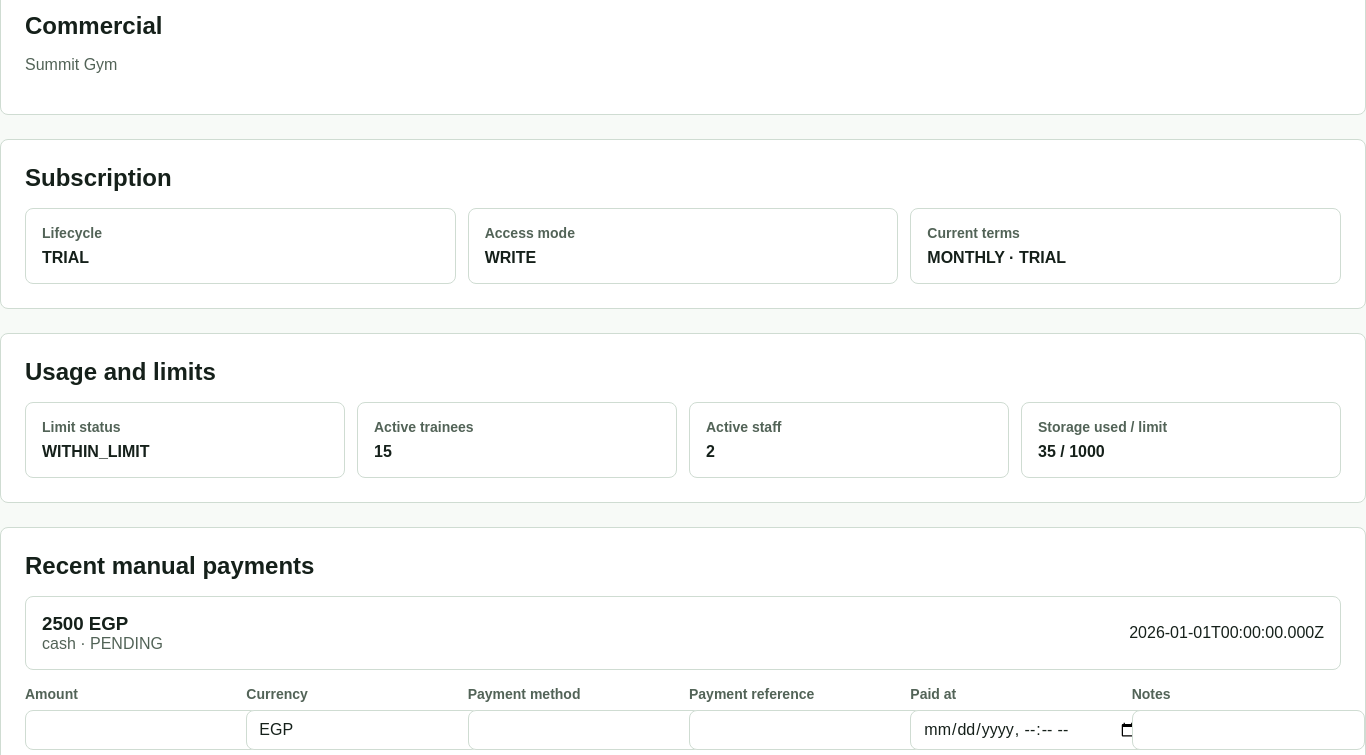
it: commercial experience UI › Backend 403 is access denied UX and does not logout
Type "3000" into the number field labelled "Amount" at point(142, 730), box [25,710,258,750]
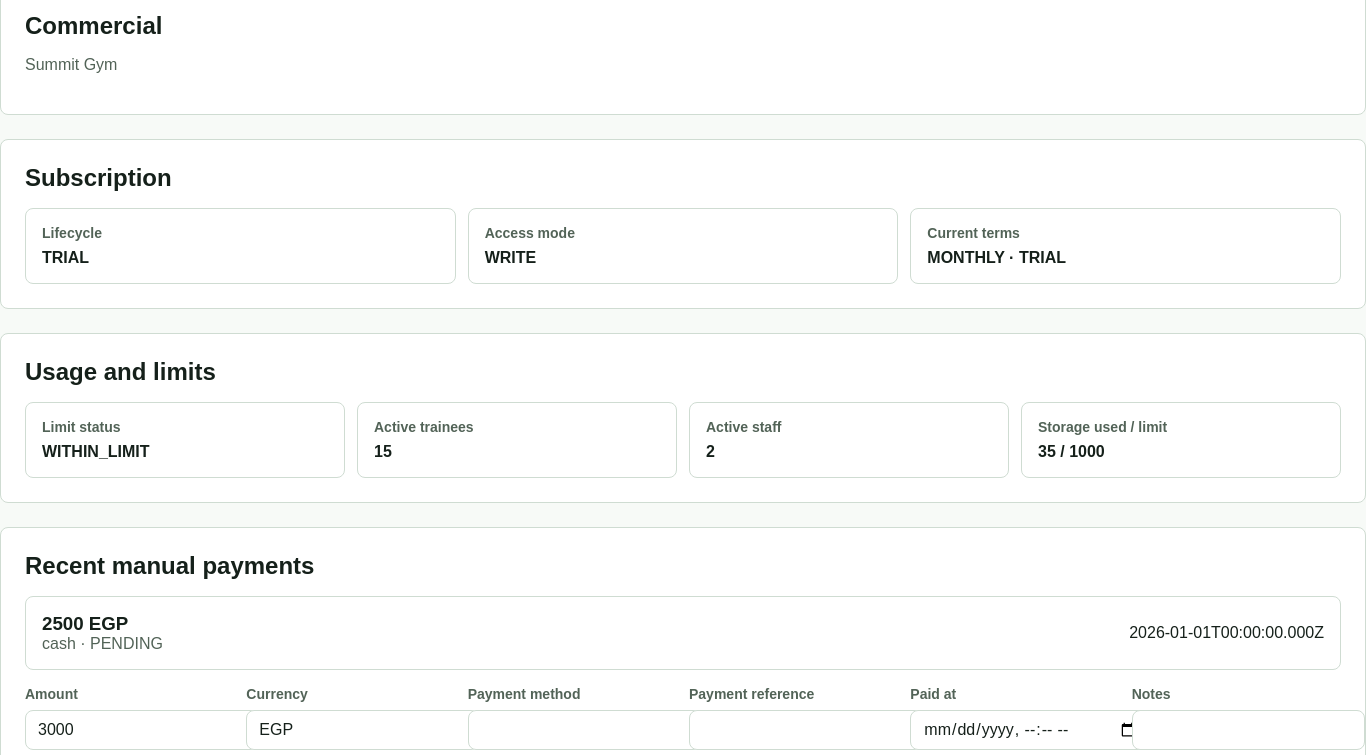
Type "cash" into the field labelled "Payment method" at point(584, 730), box [468,710,701,750]
(page scrolled)
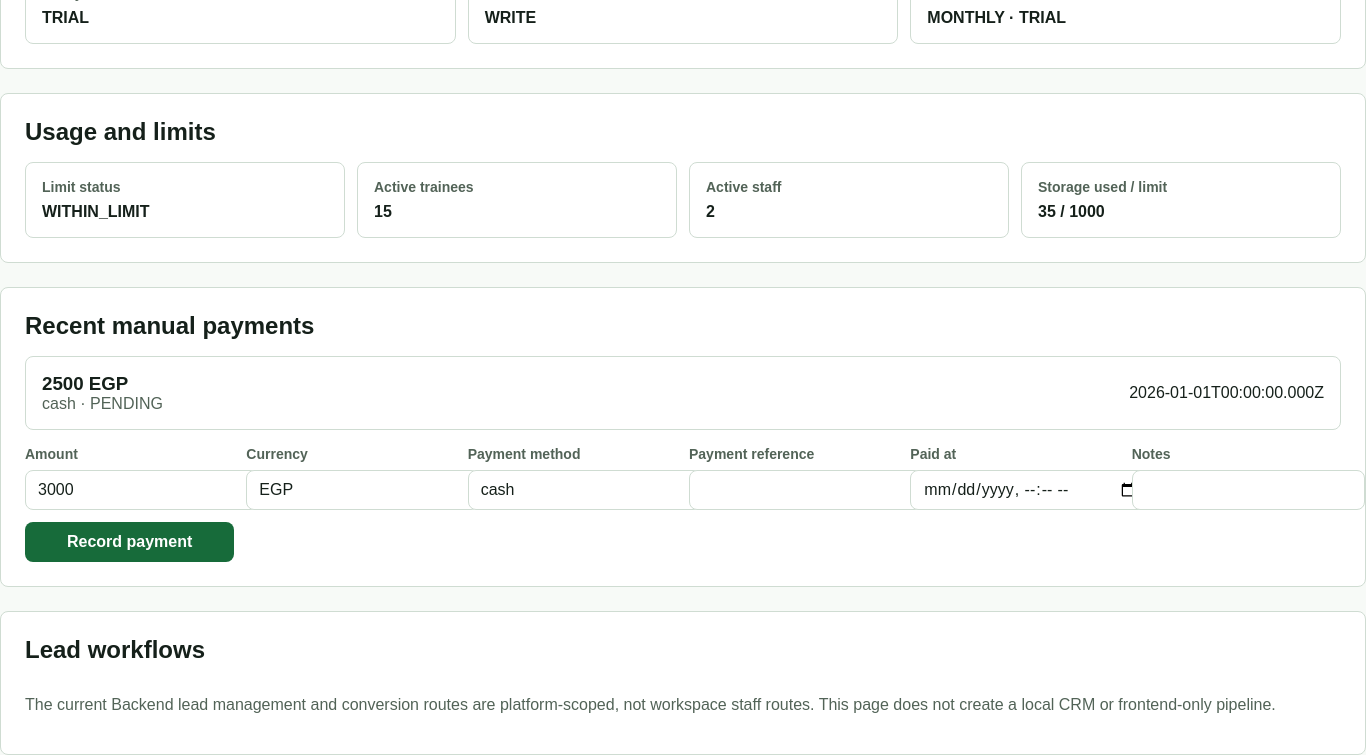
Click the button "Record payment" at point(130, 542), box [25,522,234,562]
(page scrolled)
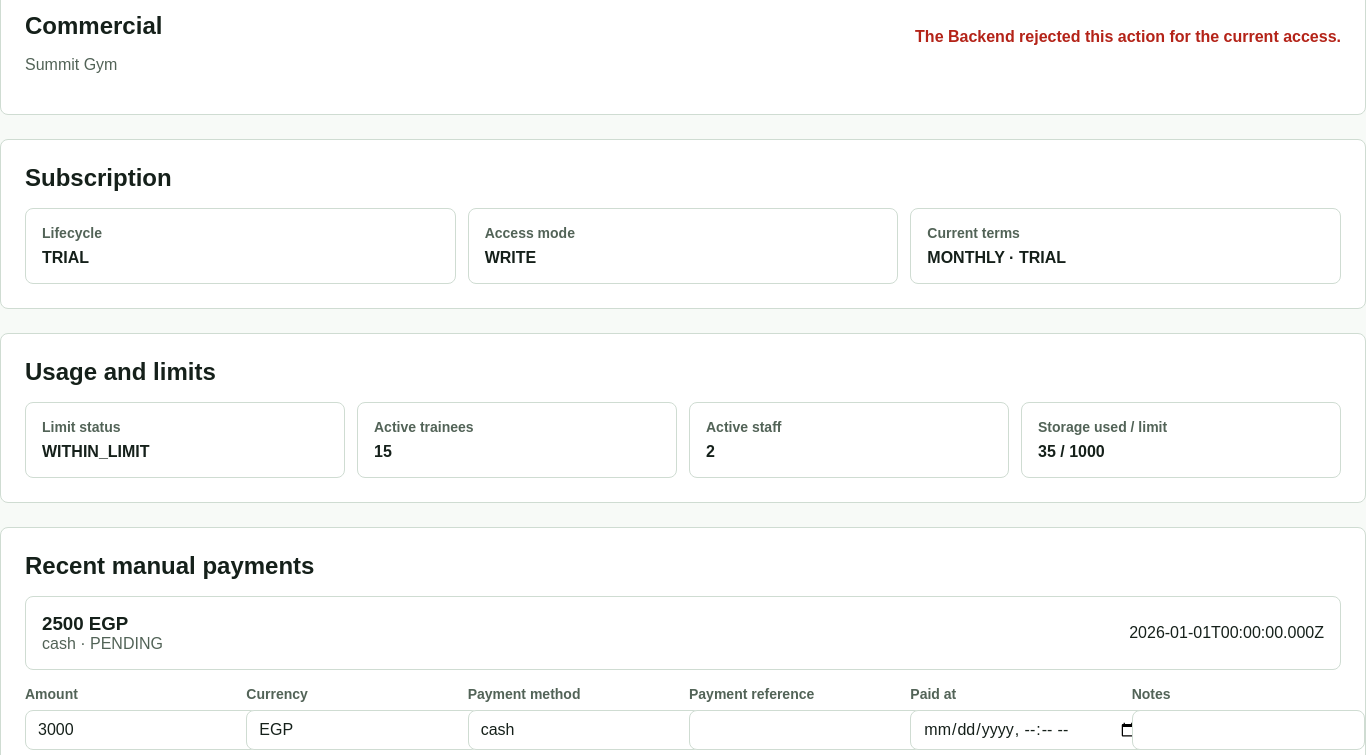
Check: the text "The Backend rejected this action for the current access." is shown, box [915,28,1341,46]
